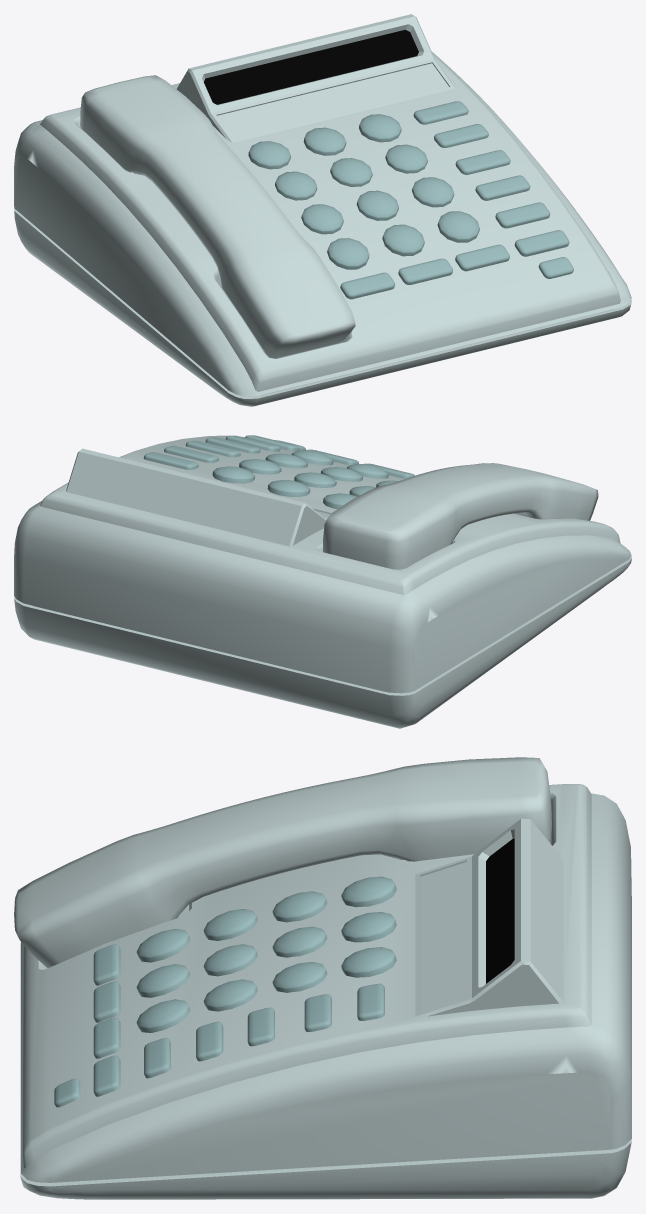
File: phone.FBX
The picture shows the model from 3 angles, top to bottom: view 1: azimuth 30°, elevation 25°; view 2: azimuth 150°, elevation 25°; view 3: azimuth 270°, elevation 25°; orthographic projection. The views are drawn at different scales.
Parts seen in each view (by area): view 1: PHONE; view 2: PHONE; view 3: PHONE.
Boxes of the visible parts, left/top/right/bottom form: PHONE: left=14, top=14, right=631, bottom=406; PHONE: left=14, top=435, right=631, bottom=728; PHONE: left=14, top=757, right=631, bottom=1199.
Bounding box in the file's own units: 21.58 × 8.95 × 22.07.
